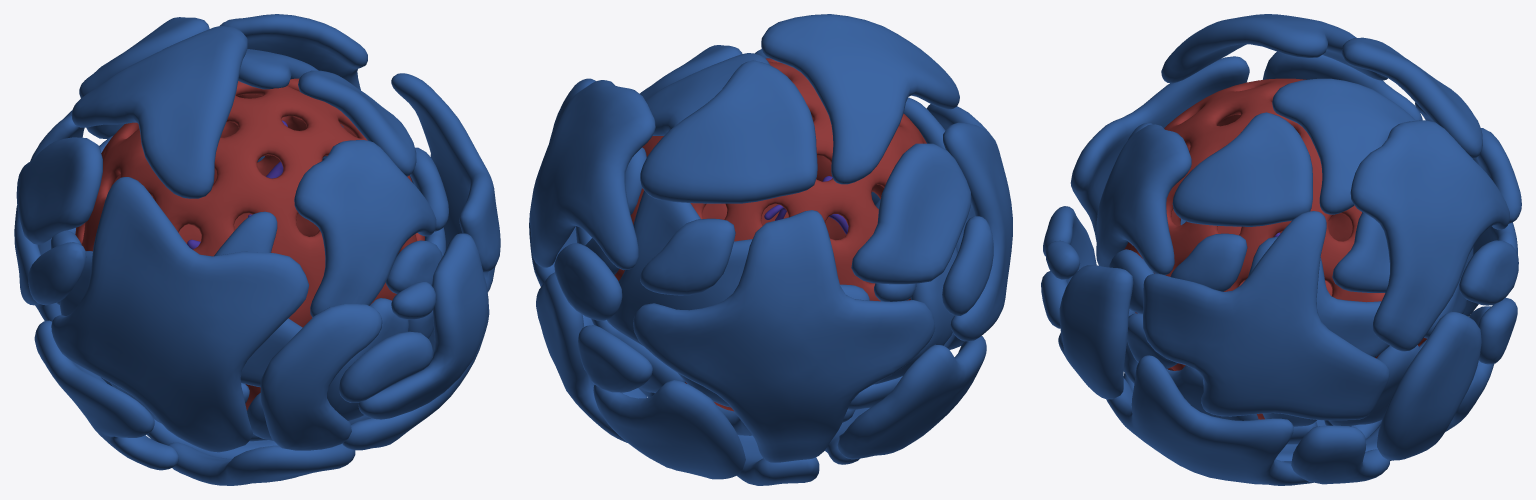
File: Core_hromosome_EPR_cell__Complete.FBX
The picture shows the model from 3 angles, left to right: view 1: azimuth 30°, elevation 25°; view 2: azimuth 150°, elevation 25°; view 3: azimuth 270°, elevation 25°; orthographic projection. The views are drawn at different scales.
Parts seen in each view (by area): view 1: Object010; view 2: Object010; view 3: Object010.
Part boxes in pixels (<box>): Object010: <box>14,14,500,485</box>; Object010: <box>529,14,1012,485</box>; Object010: <box>1041,14,1521,485</box>.
Size of the model in its own units: 72.39 by 70.94 by 72.25.
